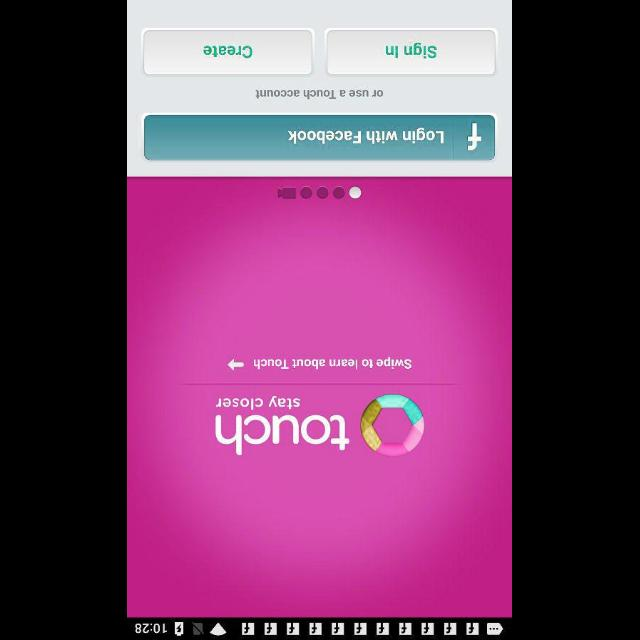icon: (228, 357, 245, 371)
image: (216, 393, 427, 457)
pageindicator: (278, 186, 362, 200)
text: (254, 356, 414, 370), (256, 88, 384, 100)
textbutton: (144, 114, 496, 160), (327, 30, 496, 74), (144, 30, 312, 74)
uppertaskbar: (128, 617, 512, 639)
